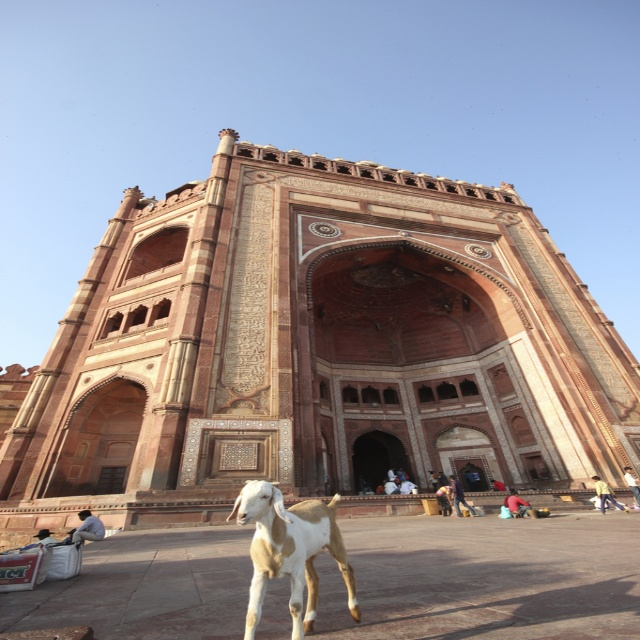Cattle: (226, 480, 365, 640)
